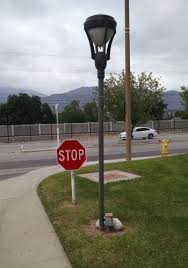stop_sign: (56, 139, 87, 171)
